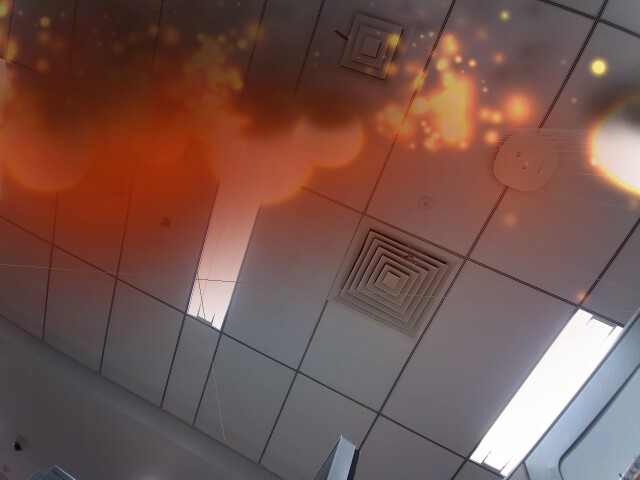fire: (222, 119, 316, 210), (7, 101, 93, 194), (590, 86, 640, 194), (297, 98, 368, 168)
